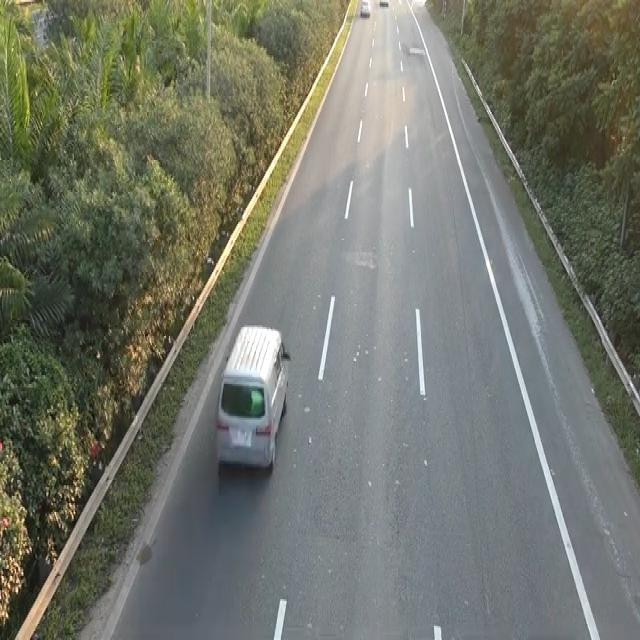lorry: (213, 320, 289, 475)
